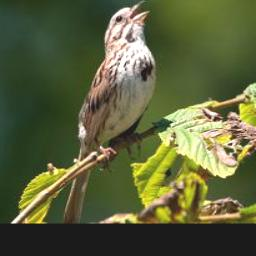Sparrow: (62, 0, 157, 221)
